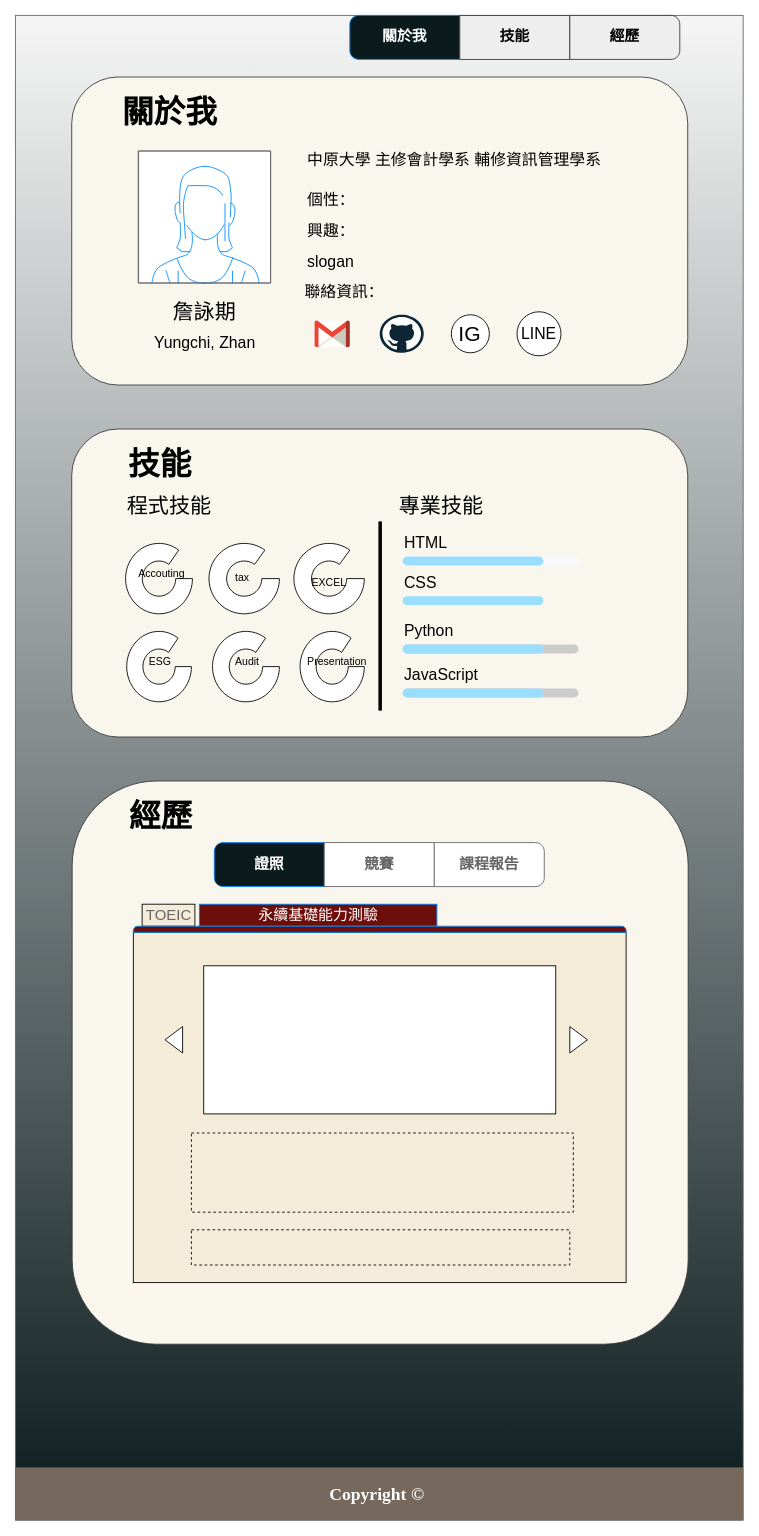
The diagram is 759 pixels wide and 1536 high, and some of its shapes have lost their labels. The shapes that lost their labels are listed below. From the top down, each one's centre as x and y in pixels, then its label:
At point 379,1039: "img".
At point 382,1172: "活動說明".
At point 380,1247: "活動網站/成果展示連結".
